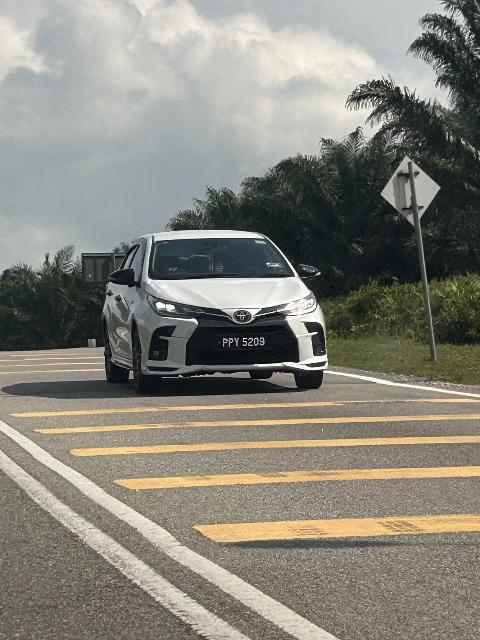License_Plate: (213, 336, 278, 351)
PPY5209: (213, 336, 278, 351)
car: (95, 227, 329, 395)
